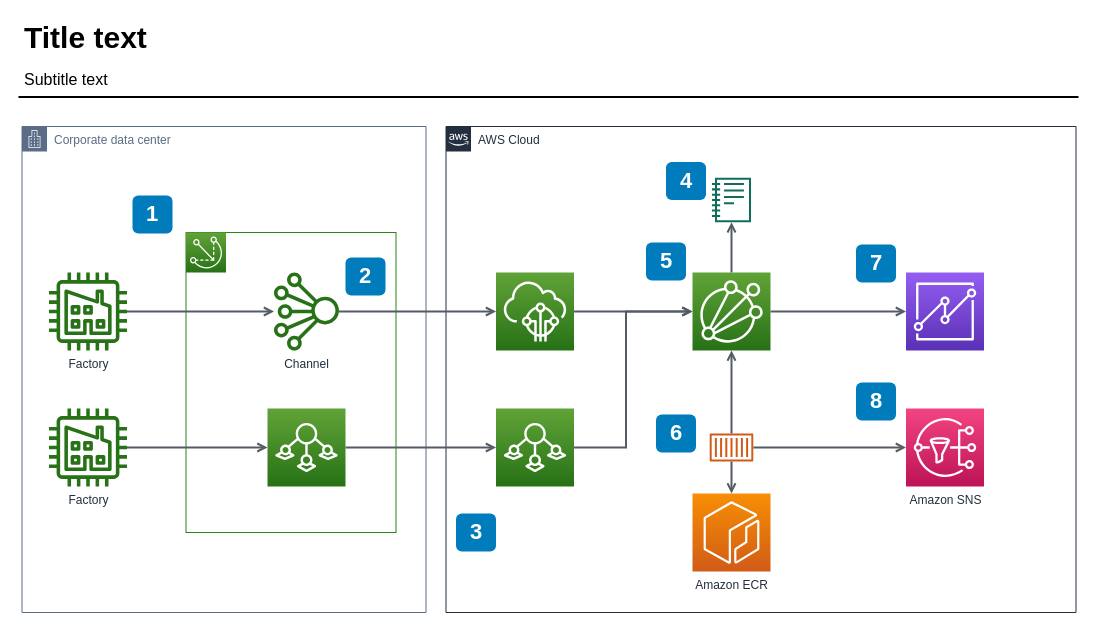
Image size: 1096x630. Some labels were removed from this diagram. Each missing label, with the box of its shape:
Amazon QuickSight: (905, 272, 984, 350)
AWS IoT Analytics: (692, 272, 770, 350)
AWS IoT Core: (495, 272, 574, 350)
AWS IoT Greengrass: (185, 232, 226, 272)
AWS IoT SiteWise: (495, 408, 574, 486)
AWS IoT SiteWise Connector: (266, 408, 346, 486)
docker container: (709, 433, 753, 461)
Notebook: (712, 177, 750, 222)
